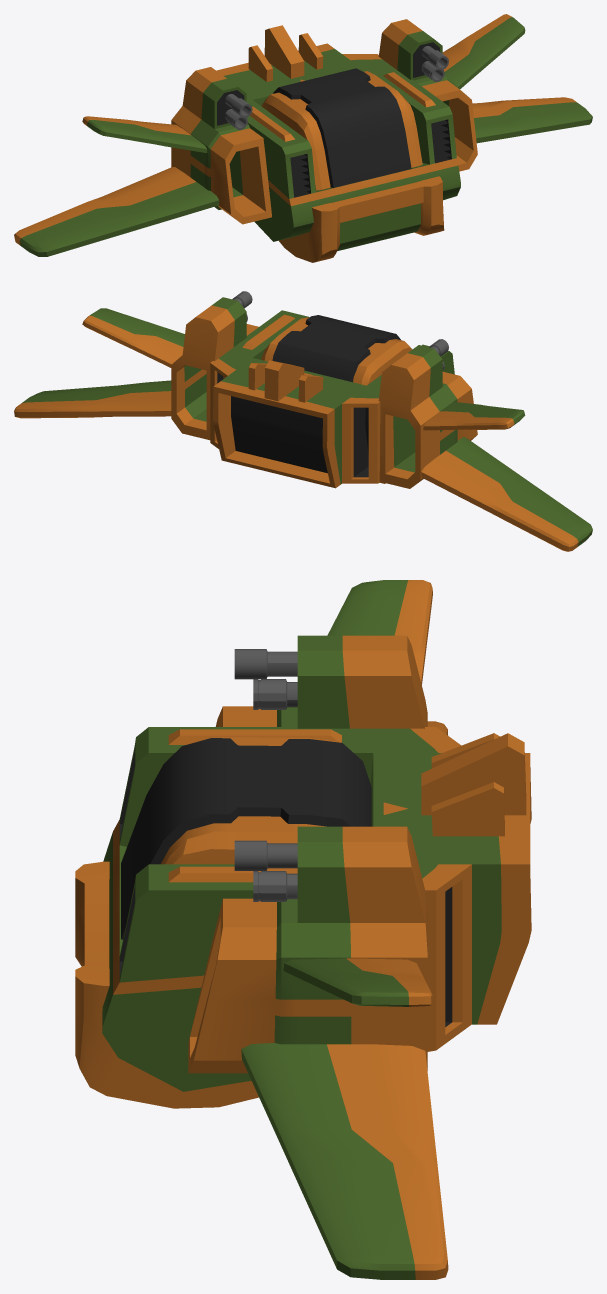
The model's file is Spaceship_FinnTheFrog.glb.
3 renders of one model, top to bottom at view 1: azimuth 30°, elevation 25°; view 2: azimuth 150°, elevation 25°; view 3: azimuth 270°, elevation 25°, orthographic. The views are drawn at different scales.
Visible parts, largest first — view 1: Spaceship_FinnTheFrog; view 2: Spaceship_FinnTheFrog; view 3: Spaceship_FinnTheFrog.
Part boxes in pixels (box(x1,y1,x2,y2)): Spaceship_FinnTheFrog: box(14, 14, 592, 262); Spaceship_FinnTheFrog: box(14, 291, 592, 551); Spaceship_FinnTheFrog: box(75, 580, 531, 1279).
Size of the model in its own units: 11.62 by 3.06 by 4.11.
Materials: 1 (1 with a texture image).
